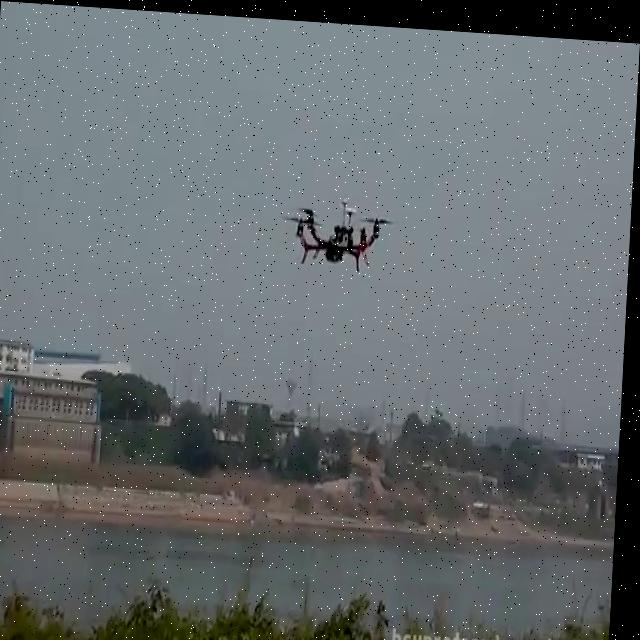drone: (275, 182, 400, 272)
